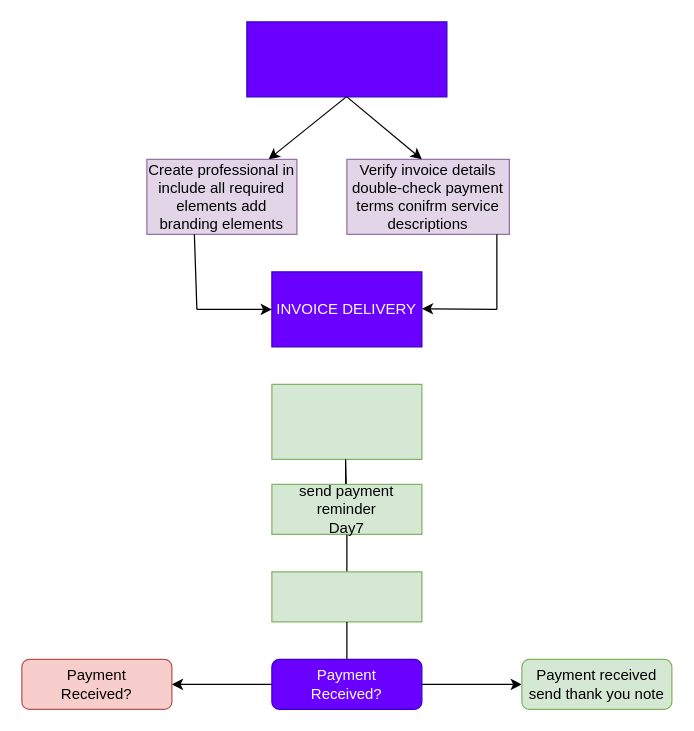
Some shapes in this 694 by 731 pixel diagram are drawn without their labels. Here are the shapes that lost their labels. From the top down, the box of each, then its label:
(246, 21, 447, 97): INVOICE CREATION
(271, 383, 422, 459): send invoice to client Day 0
(271, 571, 422, 622): send final reminder Day 14
